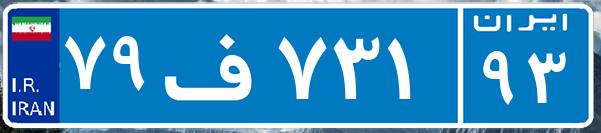1: (385, 28, 445, 110)
3: (330, 28, 385, 110), (525, 38, 570, 115)
7: (273, 28, 330, 110), (57, 26, 110, 107)
9: (475, 38, 525, 113), (110, 28, 158, 105)
ف: (158, 15, 273, 115)
